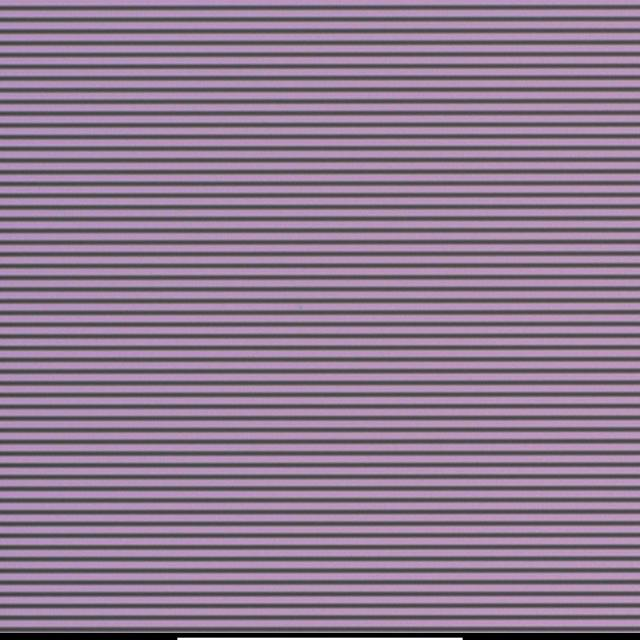nonvisual: (295, 303, 304, 313)
